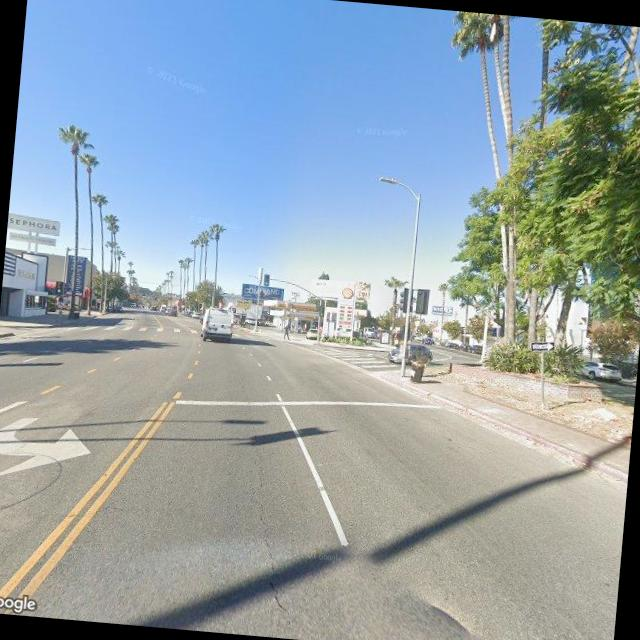pothole: (232, 432, 298, 614)
